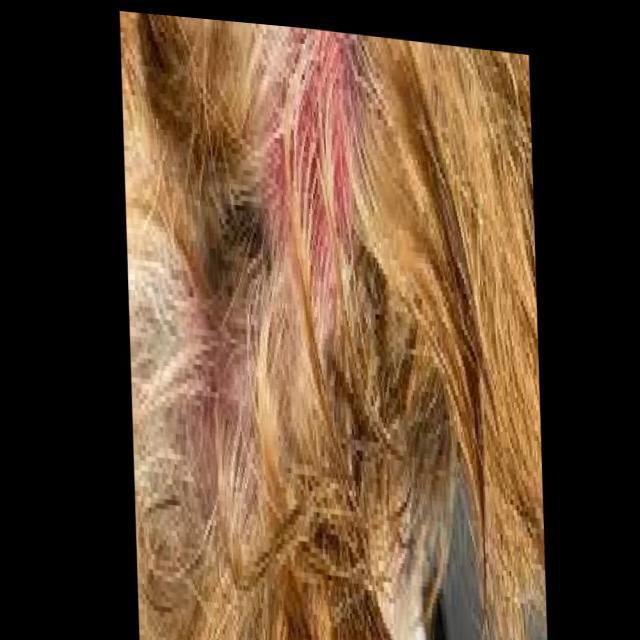allergic dermatitis: (229, 18, 405, 445)
